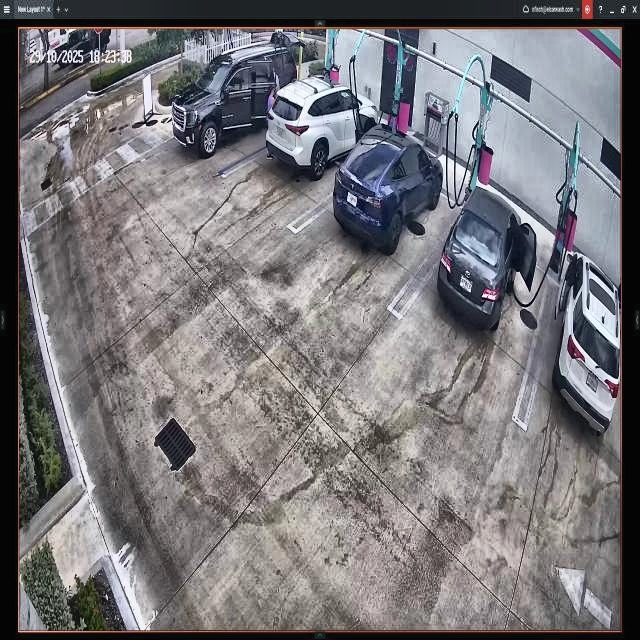Car: (334, 122, 443, 249), (439, 185, 535, 328), (268, 75, 378, 174)
